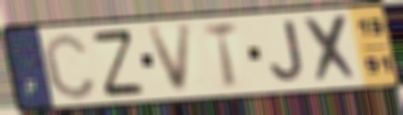C: (39, 30, 99, 102)
J: (268, 18, 306, 85)
T: (201, 19, 242, 91)
V: (144, 21, 195, 96)
X: (301, 12, 362, 86)
Z: (89, 27, 147, 99)
